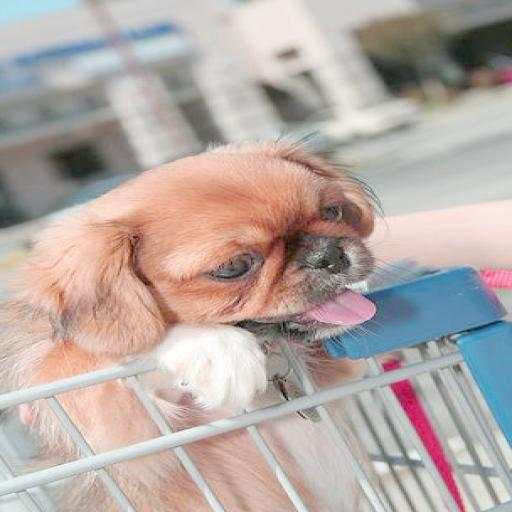dog_face: (41, 141, 400, 336)
